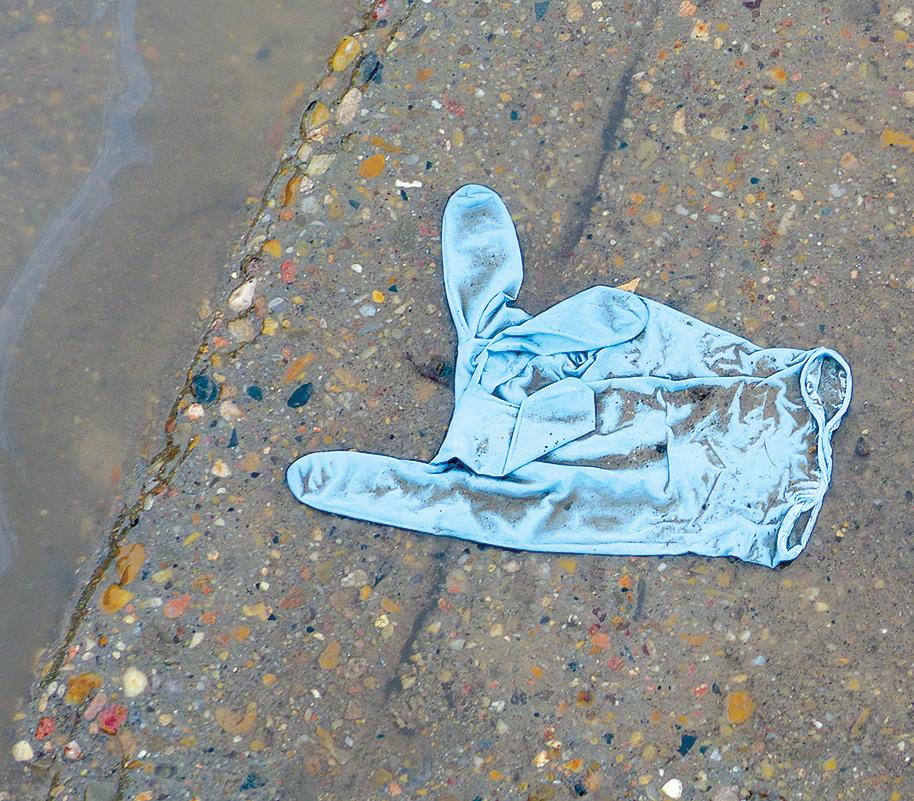gloves: (284, 174, 886, 575)
